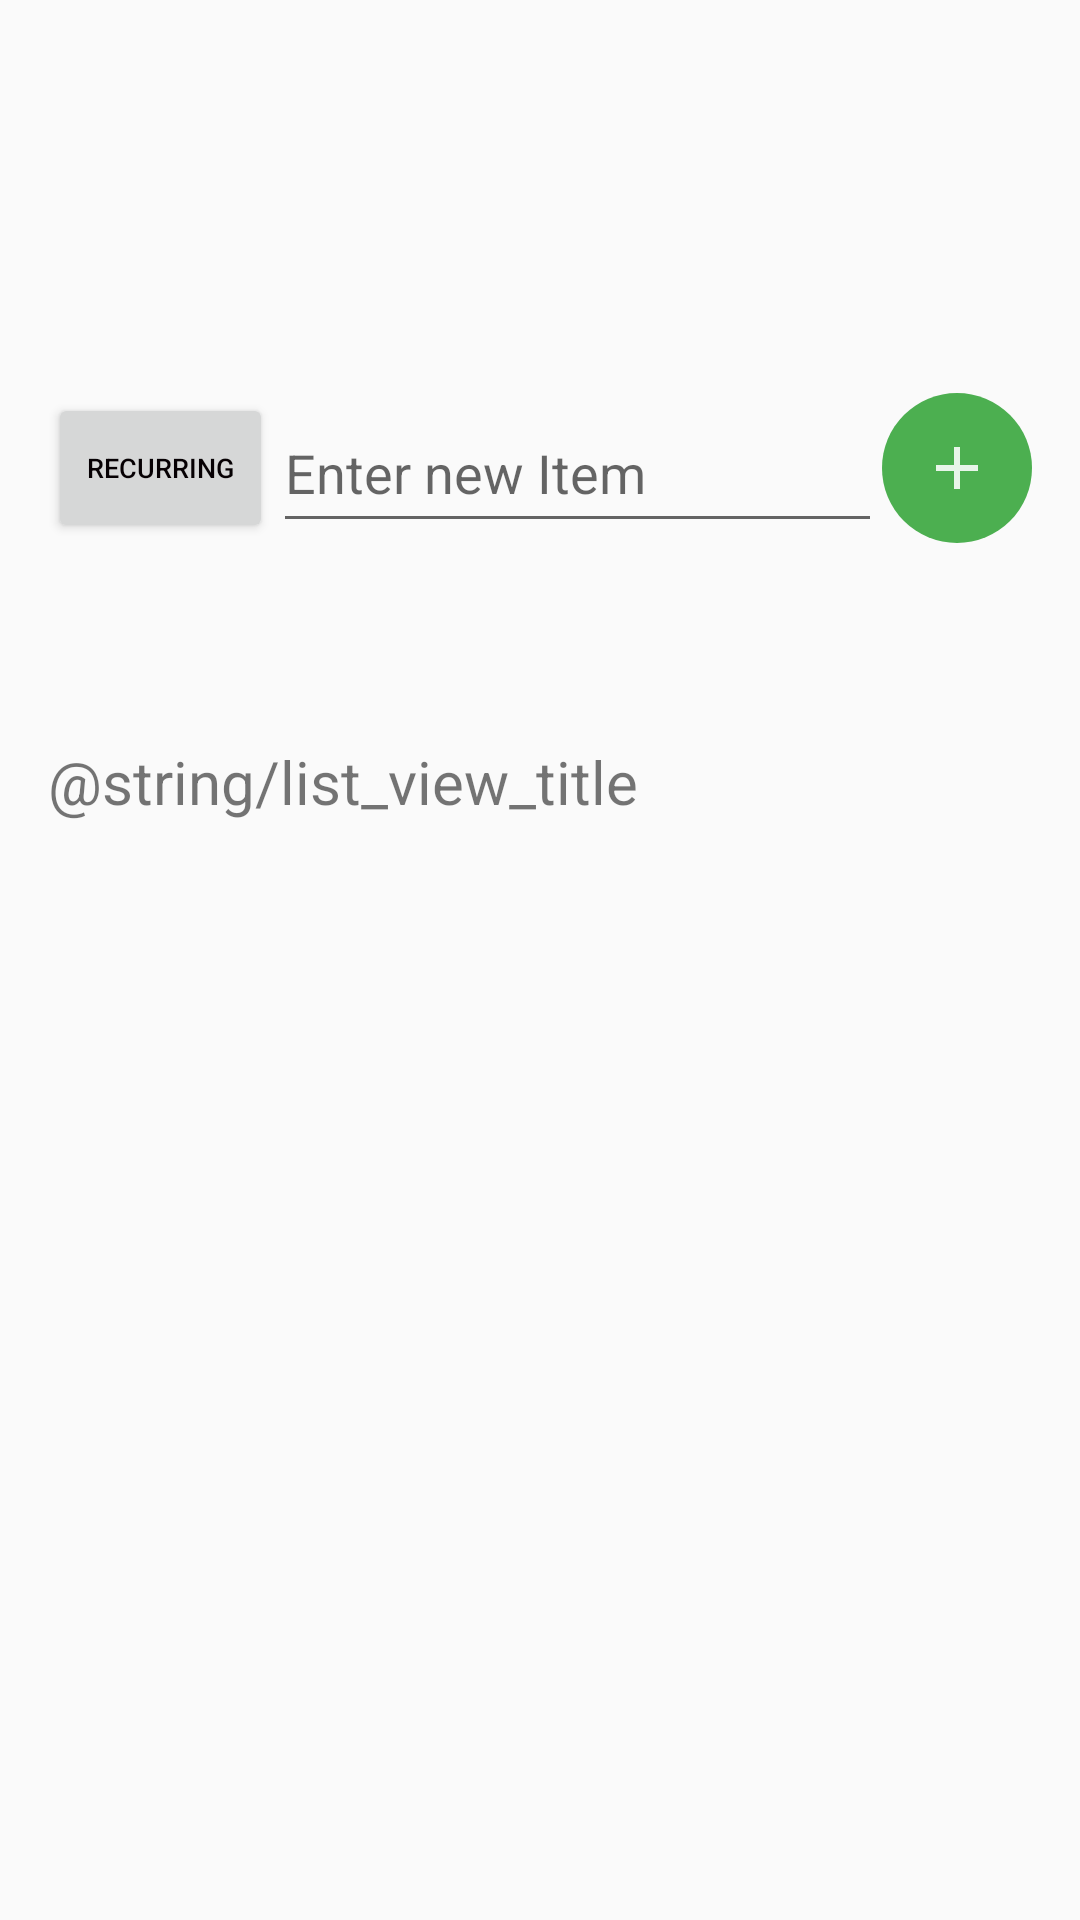

Screen size 1080*1920. Icon name, then its center in pixels as point (x, y):
add: point (957, 468)
